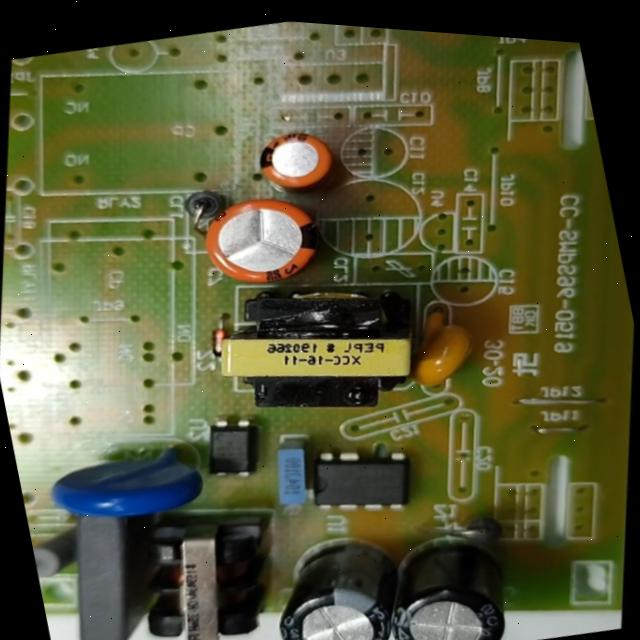Cap1: (174, 163, 346, 316)
Cap2: (237, 109, 356, 214)
Cap3: (241, 513, 426, 640)
Cap4: (358, 506, 540, 640)
MOSFET: (287, 420, 436, 543)
Mov: (27, 403, 234, 556)
Resistor: (26, 506, 104, 591)
Transformer: (182, 237, 446, 458), (98, 473, 309, 640)
